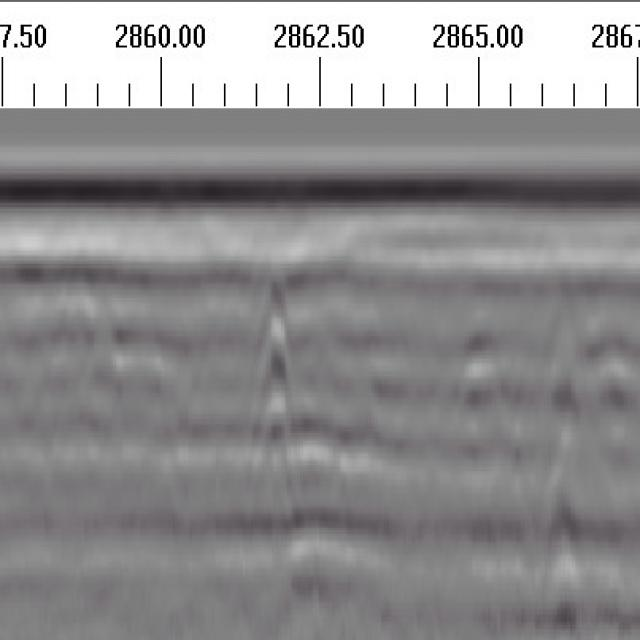crack: (251, 271, 289, 501)
